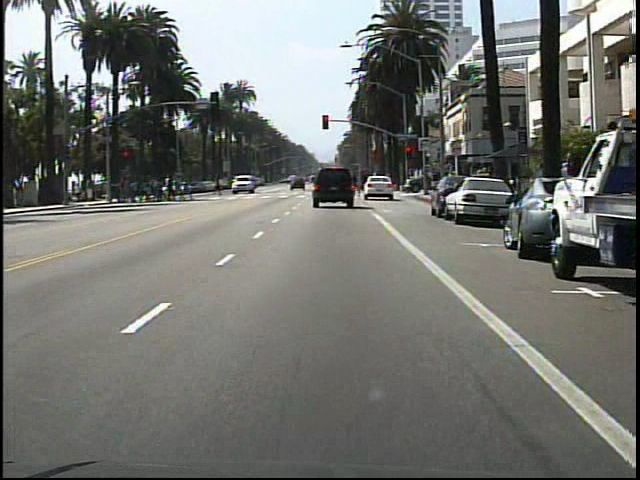person: (210, 172, 229, 201)
